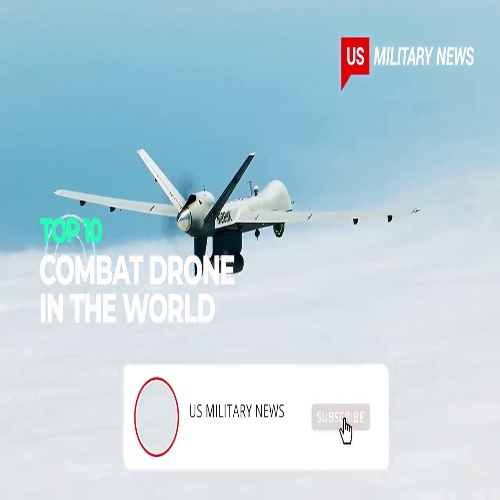uav43: (53, 146, 423, 275)
